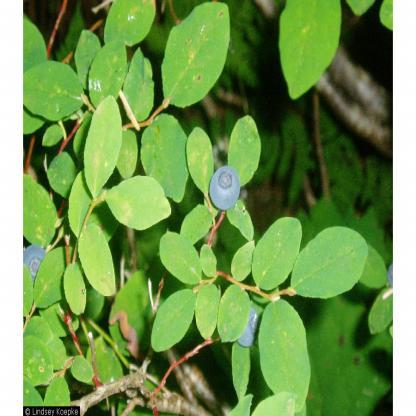Blueberry leaf: (162, 4, 232, 110), (285, 226, 378, 302), (278, 3, 350, 100), (260, 298, 314, 404), (246, 209, 302, 302), (142, 114, 196, 206), (76, 84, 116, 202), (102, 172, 173, 238), (24, 60, 80, 133), (76, 222, 121, 302), (150, 284, 200, 353), (36, 238, 74, 326), (21, 176, 63, 245), (186, 114, 216, 204), (158, 228, 199, 291), (226, 112, 258, 192), (219, 286, 256, 346), (194, 278, 220, 348), (63, 264, 92, 314), (202, 242, 222, 281)
